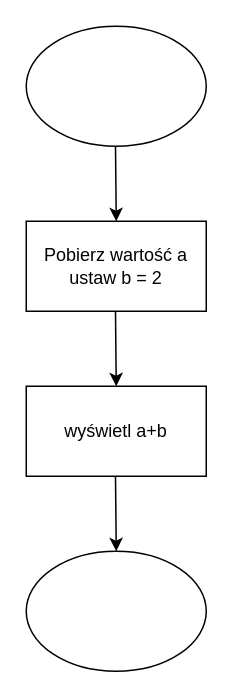
The diagram is 233 pixels wide and 698 high, and some of its shapes have lost their labels. Each missing label, with the centre of its shape:
"START" goes at (115,85).
"STOP" goes at (115,610).
